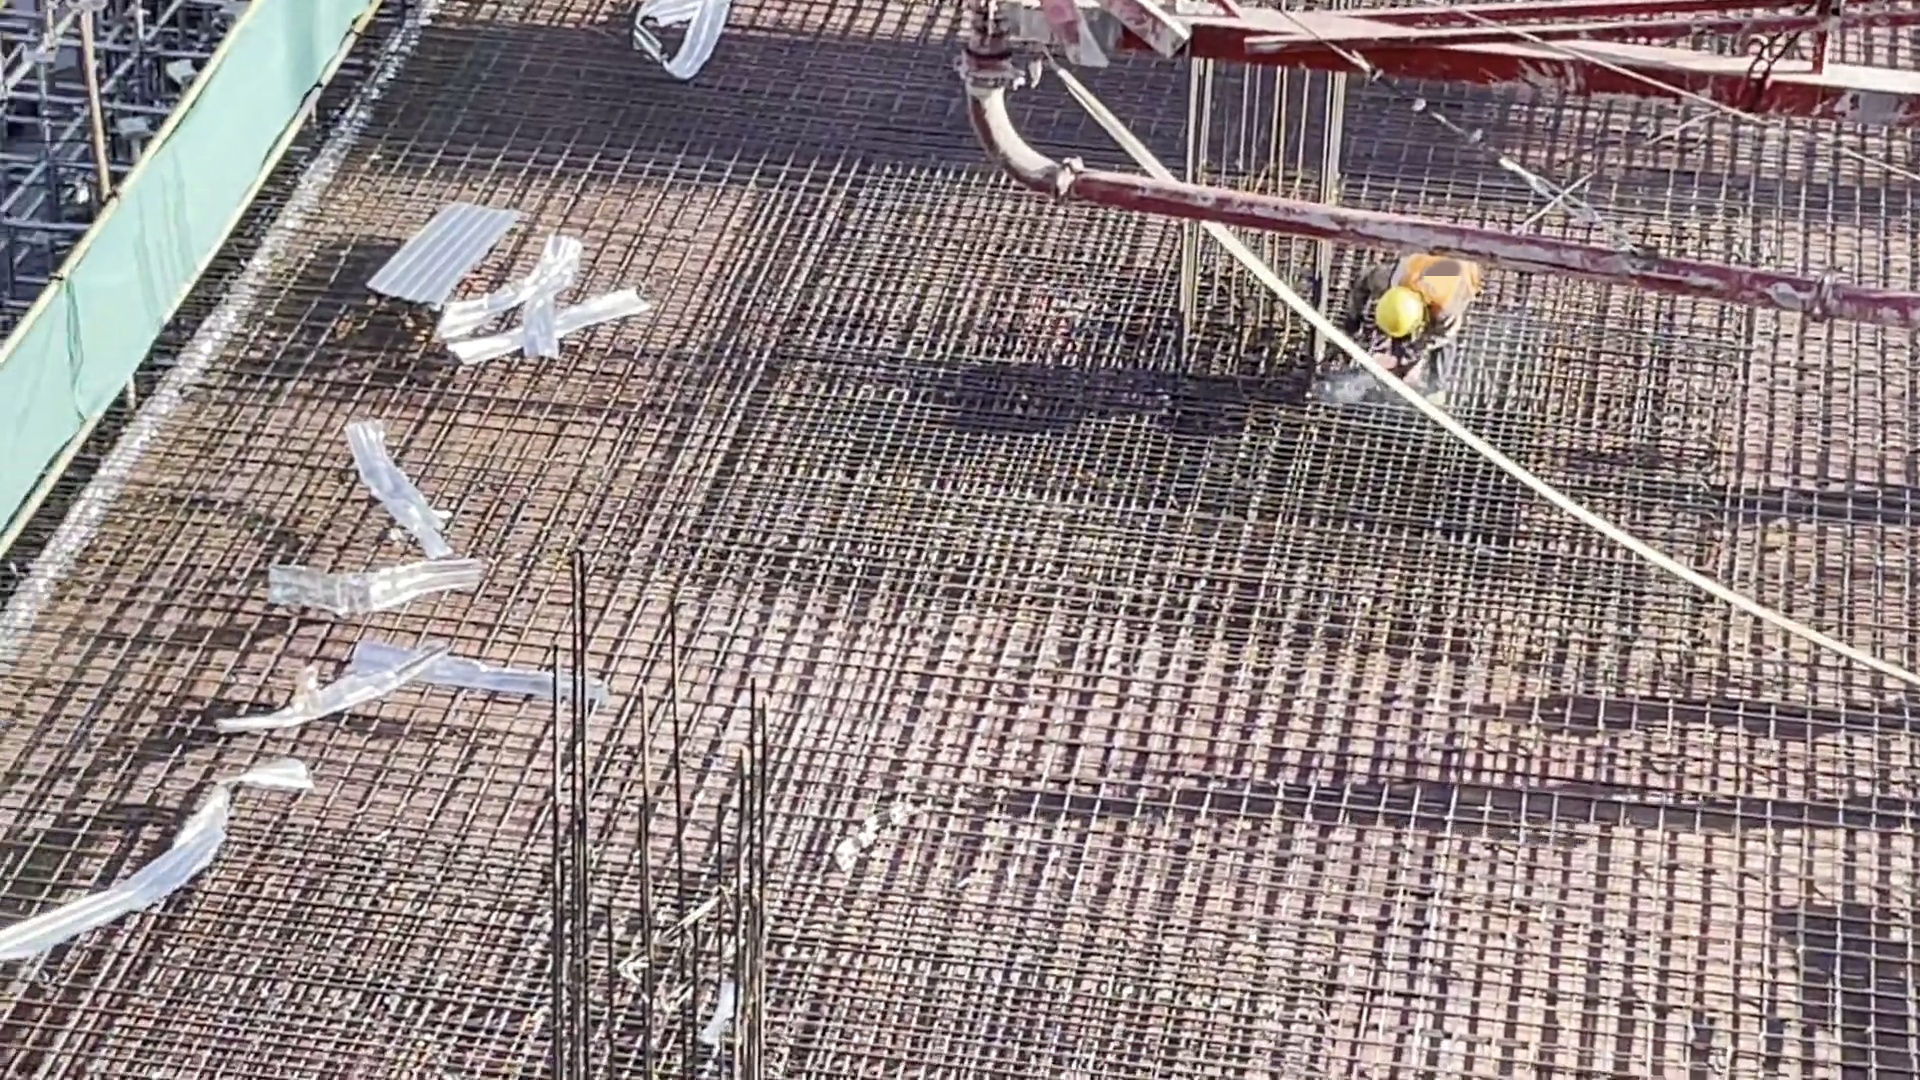helmet: (1380, 291, 1415, 333)
person: (1359, 248, 1477, 384)
vest: (1401, 253, 1496, 305)
